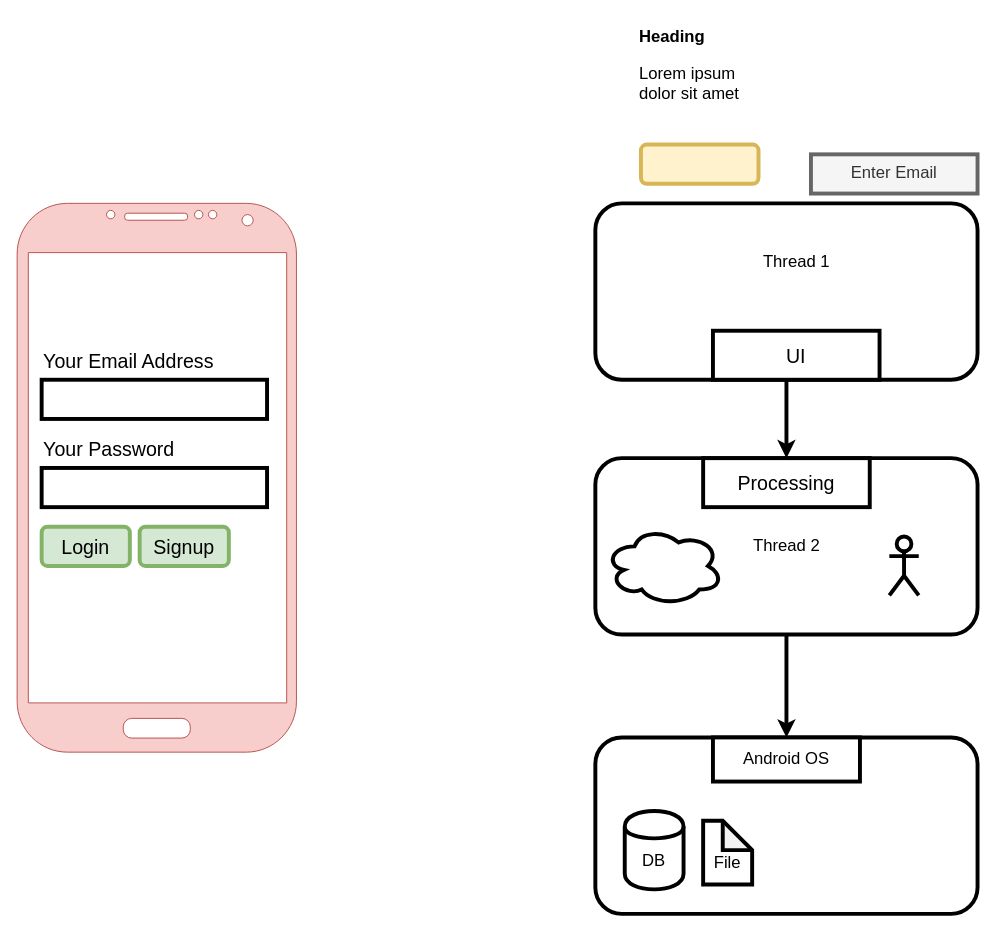
Image size: 997x932. Some labels were removed from this diagram. Each missing label, with the centre of its shape:
Button: the point at 699,163
Login to Proceed: the point at 156,477
Network Request: the point at 663,565
Process Video: the point at 903,565
